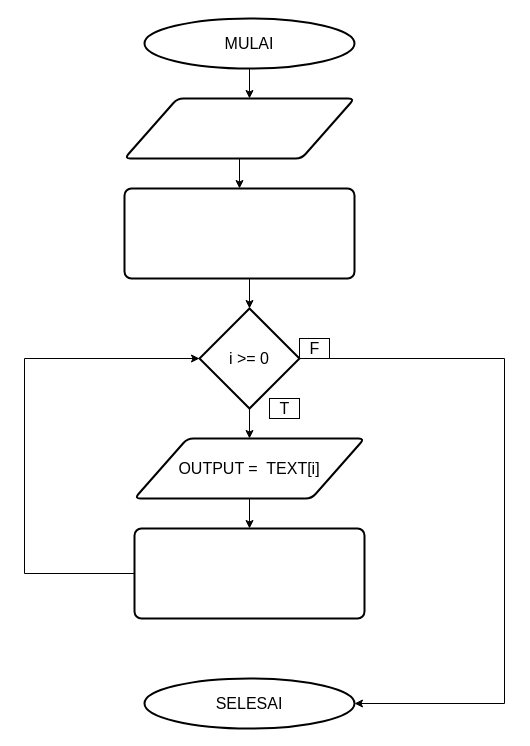
Some shapes in this 530 by 746 pixel diagram are drawn without their labels. The box of each missing label's shape, as (x1, y1, x2, y2) in pixels:
i - -: (133, 527, 365, 619)
I = TEXT.LENGTH-1: (123, 187, 355, 279)
INPUT TEXT = JAVASCRIPT: (123, 97, 355, 159)
